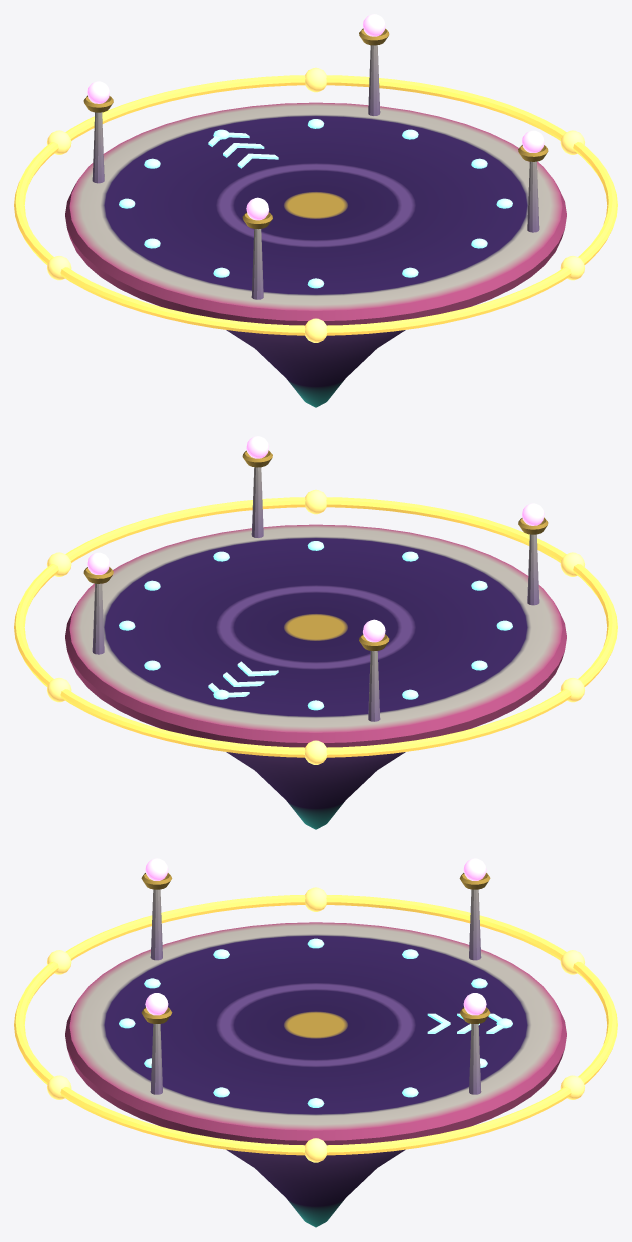
The model's file is estacion.glb.
3 renders of one model, top to bottom at view 1: azimuth 30°, elevation 25°; view 2: azimuth 150°, elevation 25°; view 3: azimuth 270°, elevation 25°, orthographic.
Visible parts, largest first — view 1: Plataforma, Anillo, Luces, Focos; view 2: Plataforma, Anillo, Luces, Focos; view 3: Plataforma, Anillo, Luces, Focos.
Part boxes in pixels (x1,y1,x2,y2): Plataforma: (65, 28, 566, 407); Anillo: (14, 67, 617, 342); Luces: (119, 119, 512, 288); Focos: (87, 14, 544, 220); Plataforma: (65, 450, 566, 829); Anillo: (14, 489, 617, 764); Luces: (119, 541, 512, 710); Focos: (87, 436, 544, 642); Plataforma: (65, 873, 566, 1227); Anillo: (14, 887, 617, 1162); Luces: (119, 938, 512, 1107); Focos: (145, 858, 486, 1015).
Size of the model in its own units: 8.02 by 4.31 by 7.84.
